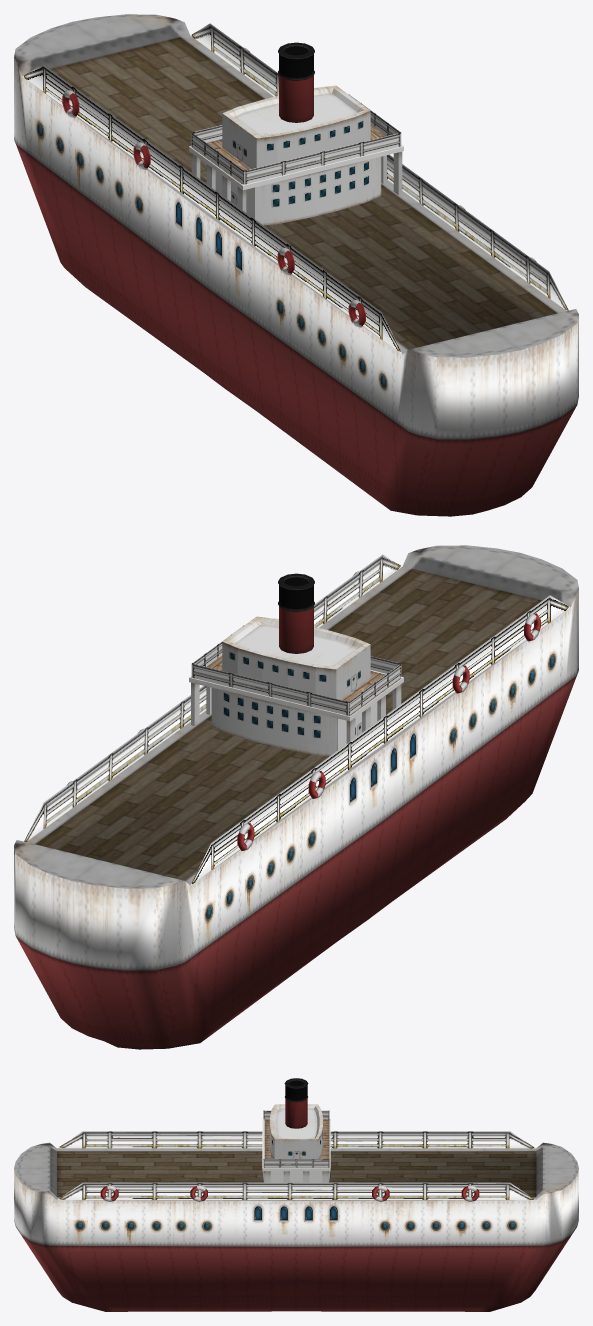
File: ship.fbx
3 views of the same model, one above another, from view 1: azimuth 30°, elevation 25°; view 2: azimuth 150°, elevation 25°; view 3: azimuth 270°, elevation 25° (orthographic). The views are drawn at different scales.
Visible parts, largest first — view 1: ship_body, ship_body1, pCube3, ship_body2, pCube1, pCube9, ship_funnel, pCube2, pCube8; view 2: ship_body, ship_body1, pCube3, ship_body2, pCube1, pCube9, ship_funnel, pCube2, pCube8; view 3: ship_body, ship_body1, ship_body2, pCube3, ship_funnel, pCube2, pCube9, pCube1.
Boxes of the visible parts, bbox=[...] form: ship_body: bbox=[14, 14, 578, 516]; ship_body1: bbox=[22, 64, 561, 353]; pCube3: bbox=[222, 85, 370, 168]; ship_body2: bbox=[190, 23, 568, 344]; pCube1: bbox=[215, 156, 381, 225]; pCube9: bbox=[191, 132, 401, 184]; ship_funnel: bbox=[278, 42, 314, 122]; pCube2: bbox=[189, 124, 403, 190]; pCube8: bbox=[192, 94, 400, 142]; ship_body: bbox=[14, 545, 578, 1049]; ship_body1: bbox=[30, 595, 570, 885]; pCube3: bbox=[222, 616, 370, 699]; ship_body2: bbox=[24, 554, 402, 873]; pCube1: bbox=[211, 688, 377, 756]; pCube9: bbox=[191, 663, 401, 715]; ship_funnel: bbox=[278, 573, 314, 653]; pCube2: bbox=[189, 655, 403, 721]; pCube8: bbox=[192, 625, 400, 673]; ship_body: bbox=[14, 1142, 578, 1311]; ship_body1: bbox=[57, 1182, 535, 1199]; ship_body2: bbox=[57, 1131, 535, 1148]; pCube3: bbox=[270, 1104, 322, 1158]; ship_funnel: bbox=[284, 1078, 308, 1128]; pCube2: bbox=[262, 1118, 330, 1171]; pCube9: bbox=[263, 1159, 329, 1167]; pCube1: bbox=[263, 1171, 329, 1182].
Bounding box in the file's own units: 158 × 283 × 686.
